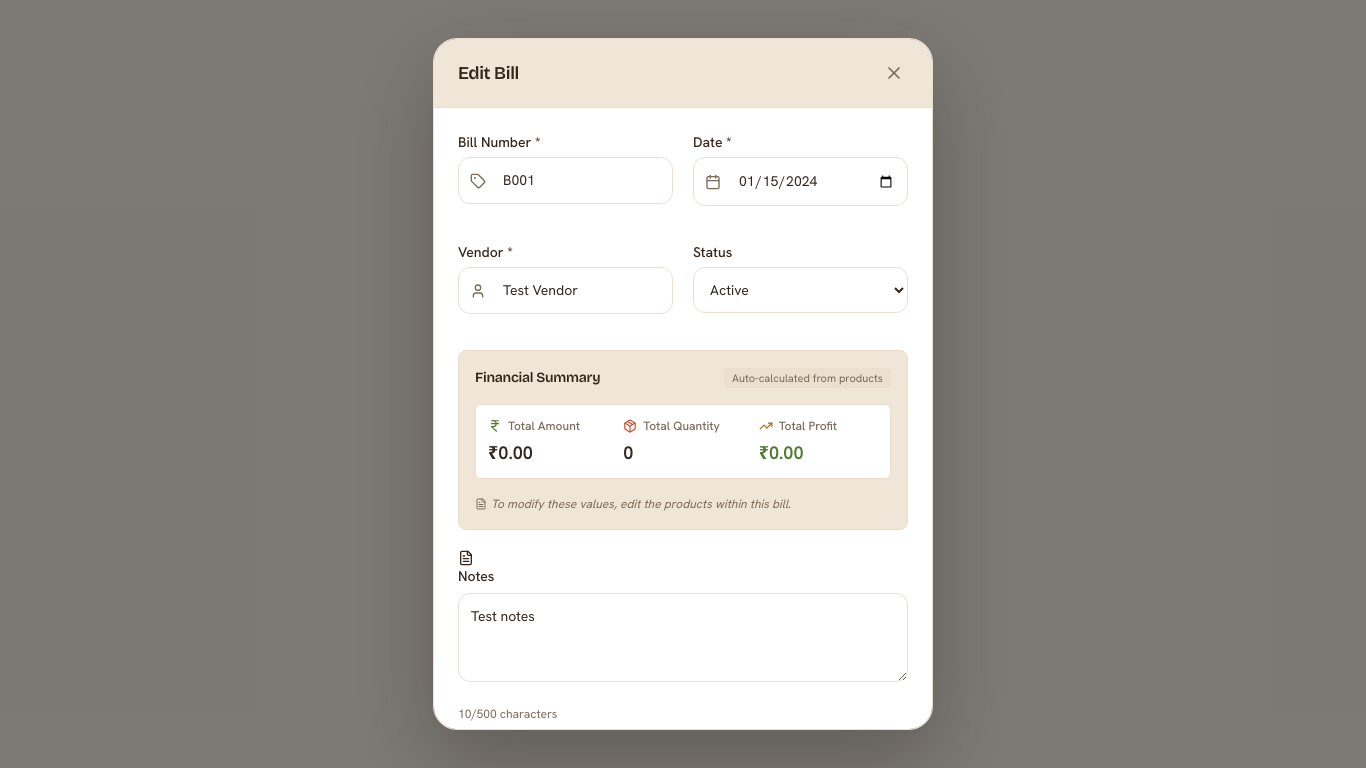
Test case: BillEditModal › Form Validation › shows error when vendor is empty
Clear the field showing "Test Vendor" at (566, 291), box [458,267,673,314]
(page scrolled)
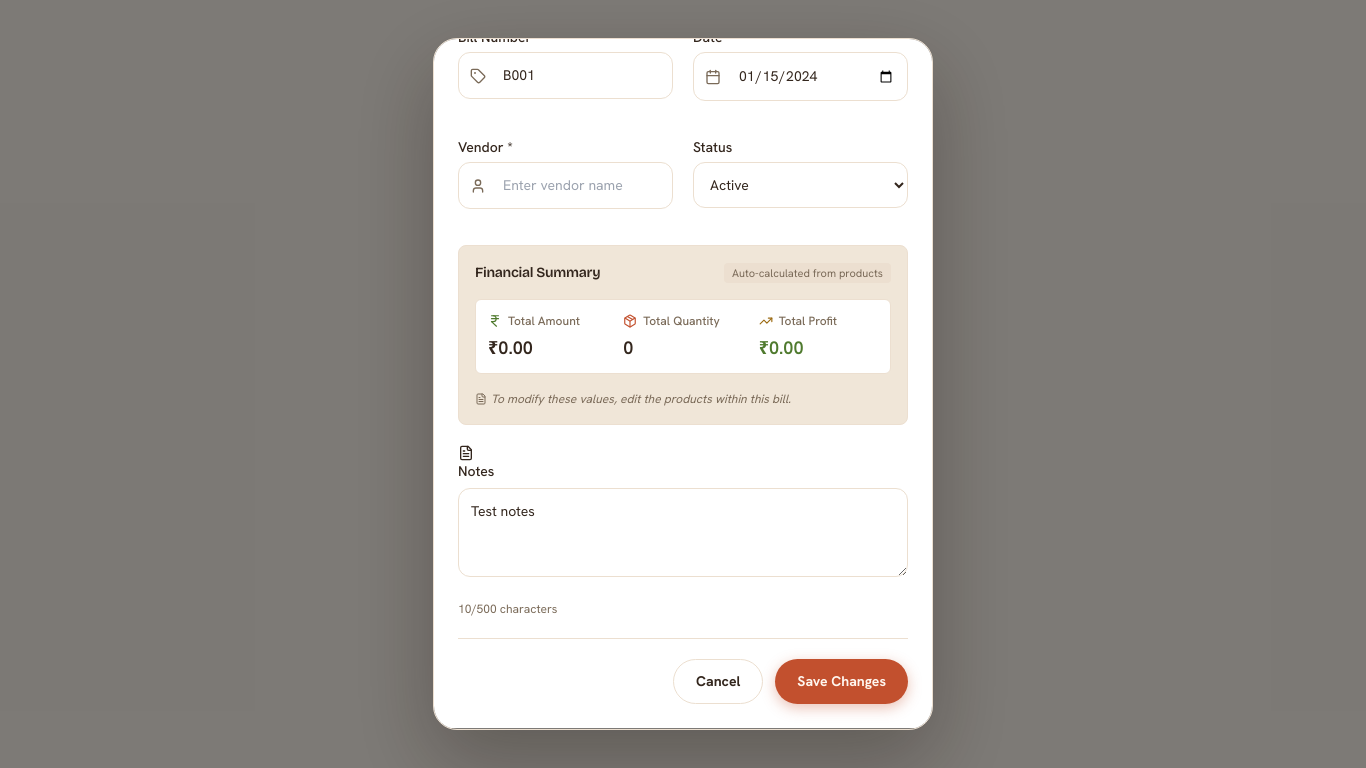
Click the button "Save Changes" at (842, 682), box [775,659,908,704]
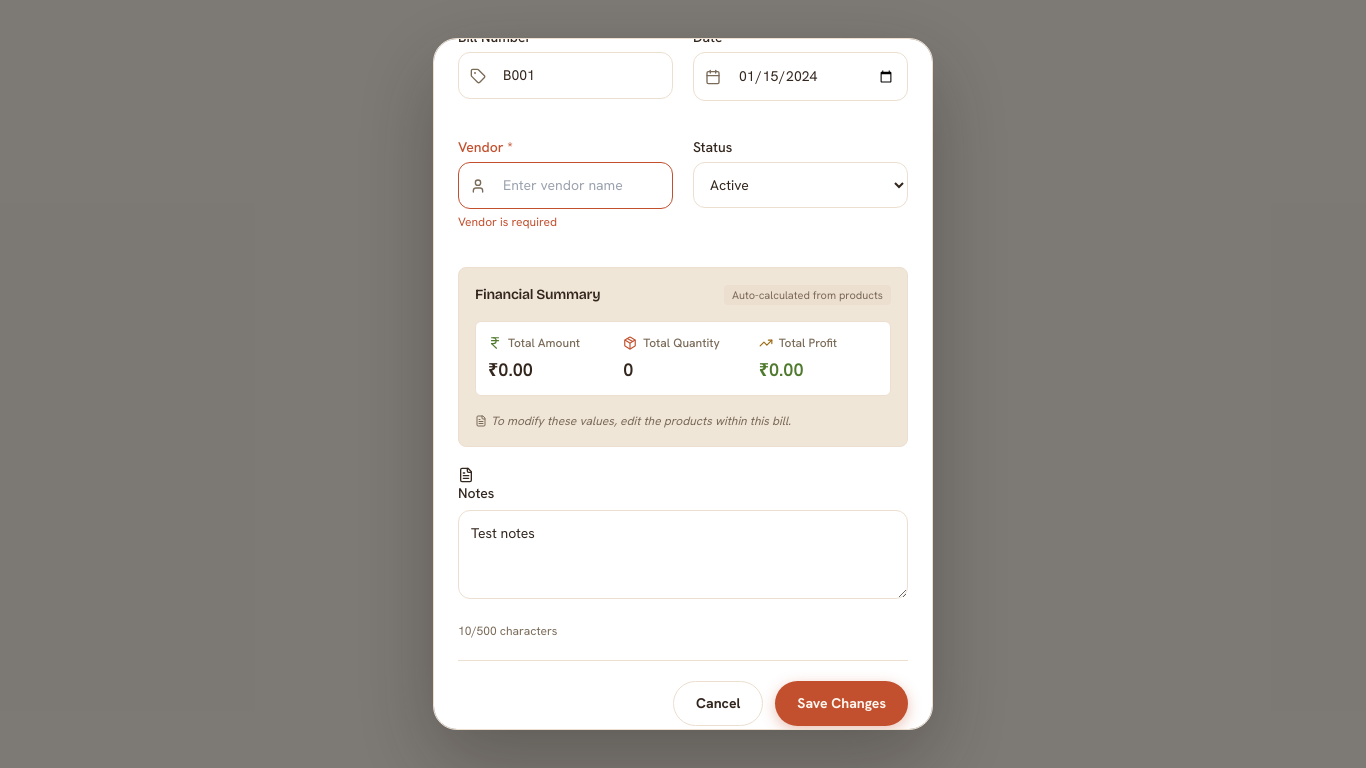
Expected: the text "Vendor is required" is shown, [458,214,557,230]
